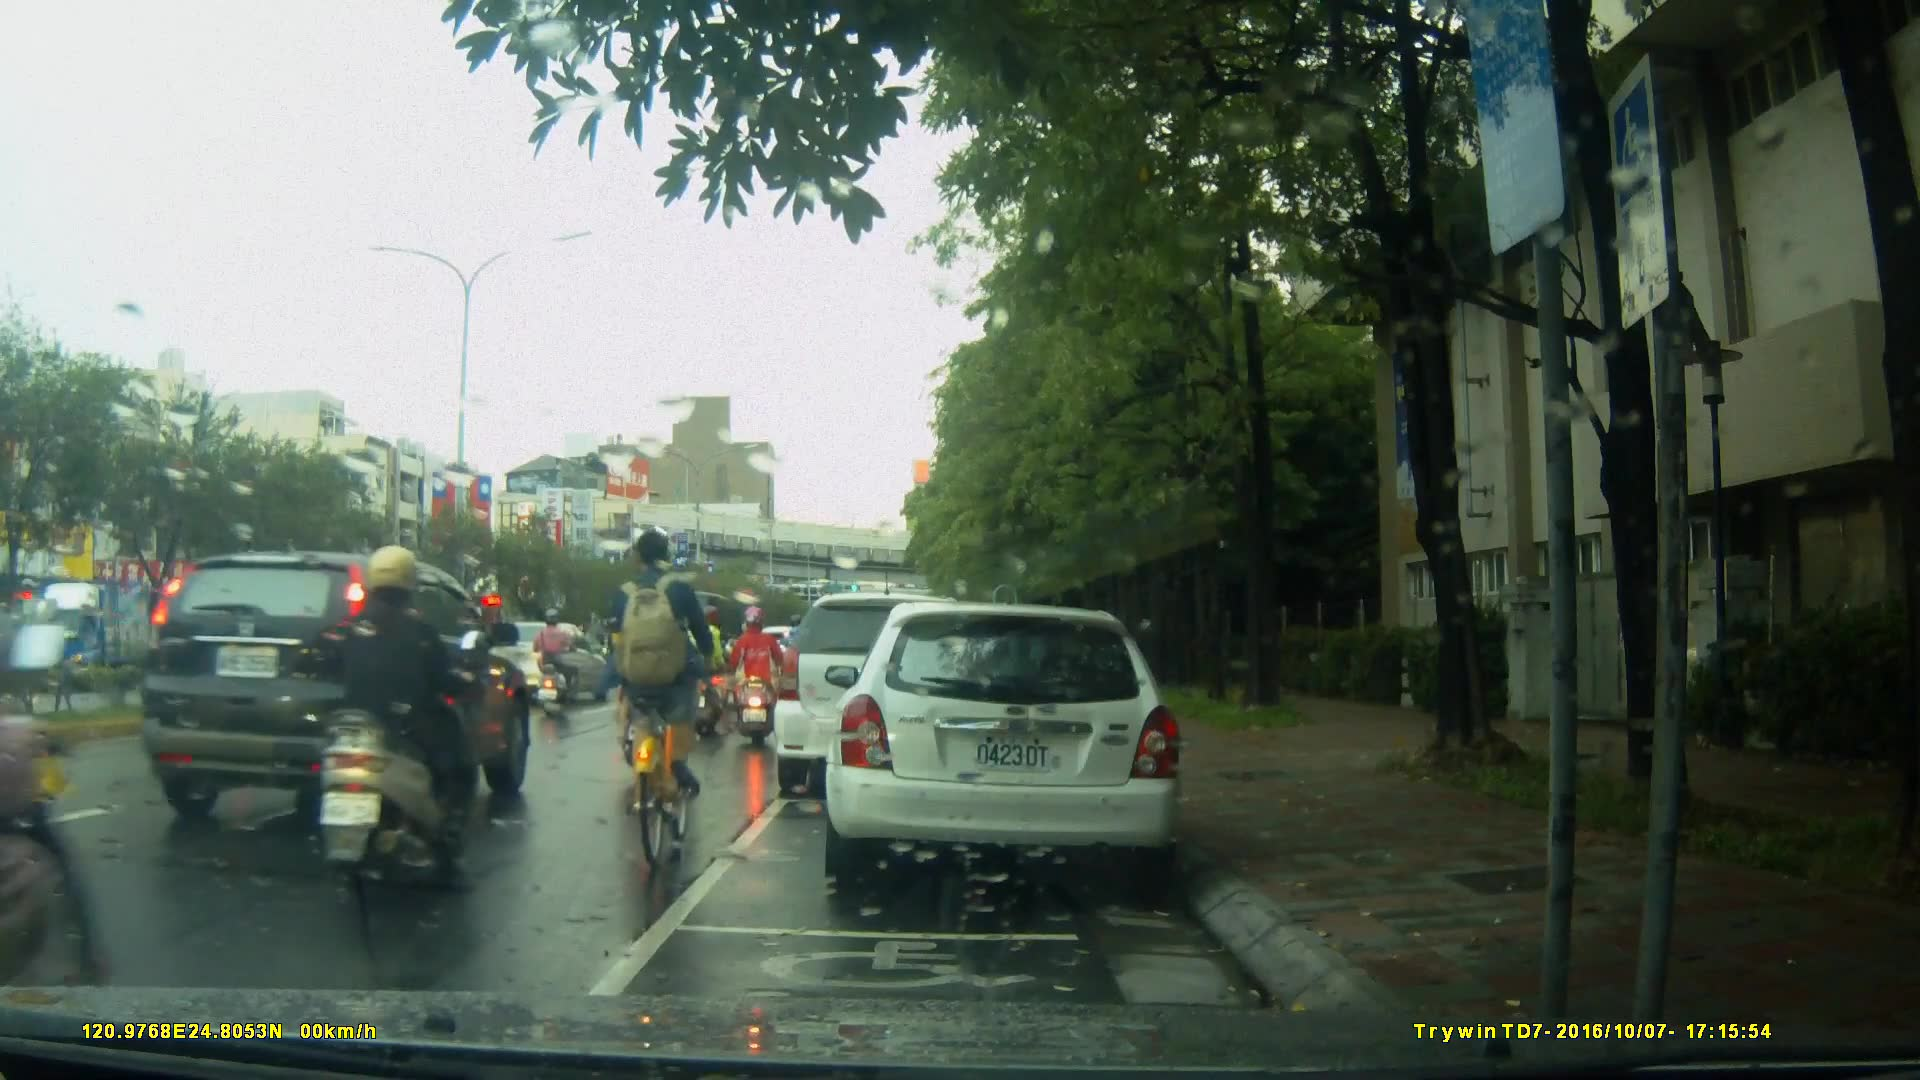rider: (319, 545, 485, 897), (625, 528, 712, 878), (722, 604, 789, 748), (777, 610, 824, 720), (533, 612, 581, 718)
vehicle: (139, 547, 536, 830), (822, 604, 1188, 883), (774, 595, 995, 802)
